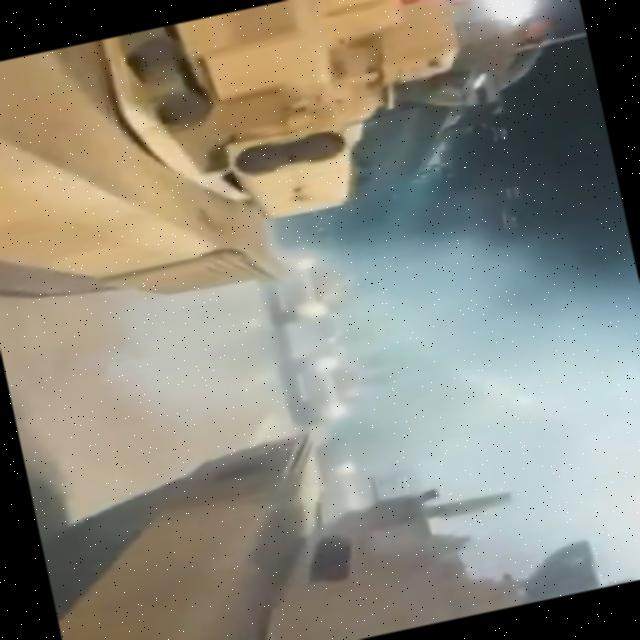north tank: (0, 0, 617, 356), (24, 353, 621, 640)
